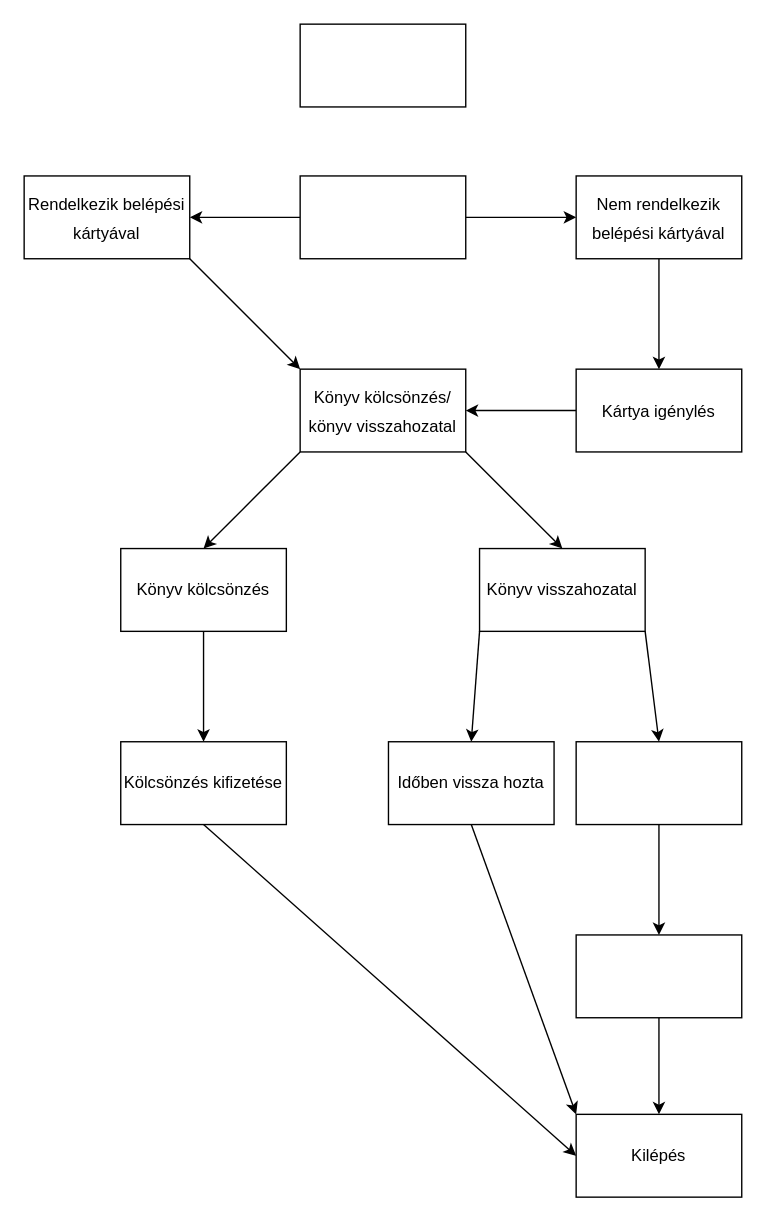
Some shapes in this 766 by 1221 pixel diagram are drawn without their labels. The shapes that lost their labels are listed below. From the top down, each one's centre as x and y in pixels, then its label:
At pixel 382 65: "Könyvtár szerkezet".
At pixel 382 217: "Belépés a könyvtárba".
At pixel 658 782: "Nem időben hozta vissza".
At pixel 658 976: "Büntetés kifizetése".
